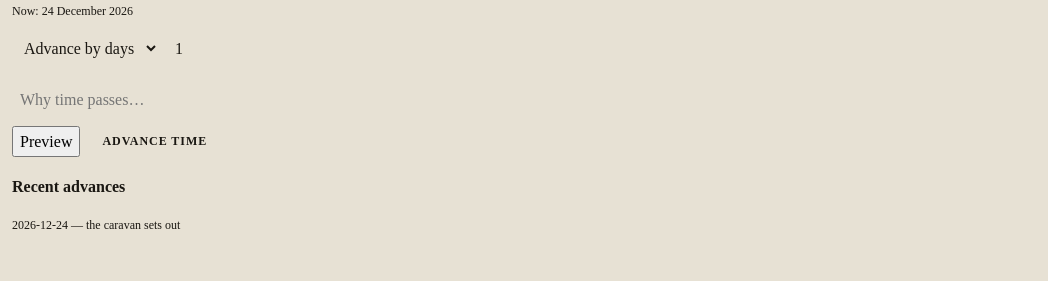
Scenario: a refused skip takes the numbers it was refused for off the screen
The width and height of the screenshot is (1048, 281).
Expected: the text "Now: 24 December 2026" is shown, [12,4,133,18]
Replace the text in the number field named "Days" with "3" at (602, 48), box [167,31,1036,66]
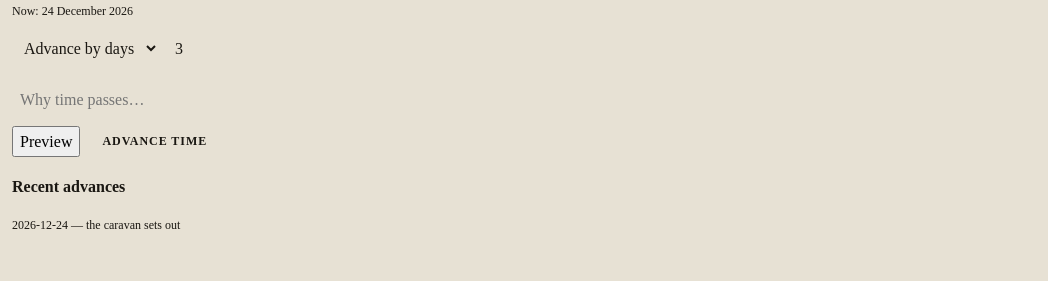
Type "a season passes" into the field named "Reason" at (120, 100), box [12,86,228,114]
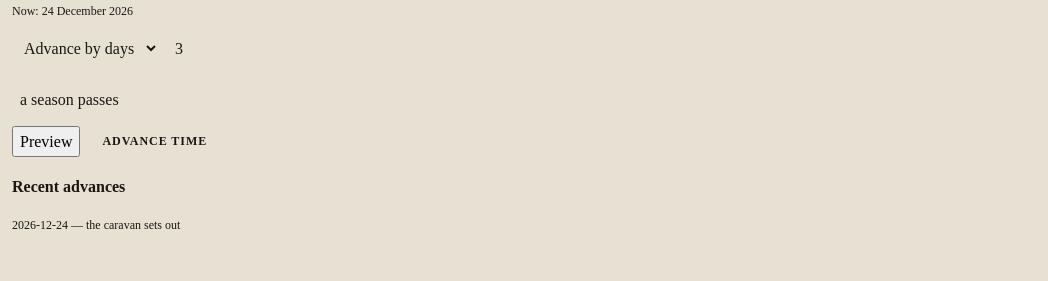
Click the button "Advance time" at (155, 142), box [88,126,221,157]
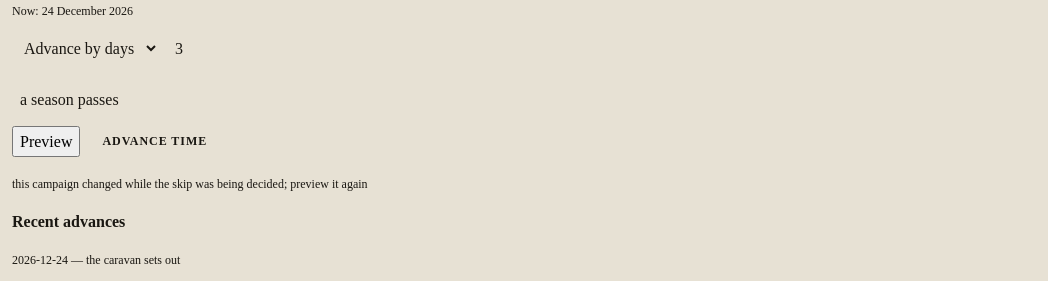
Now the text "preview it again" is shown, box [12,177,368,191]
